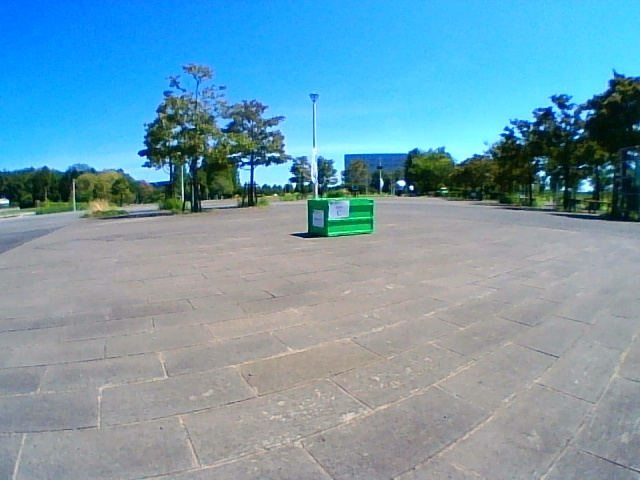green_box: (307, 197, 374, 236)
tag: (328, 200, 350, 218)
